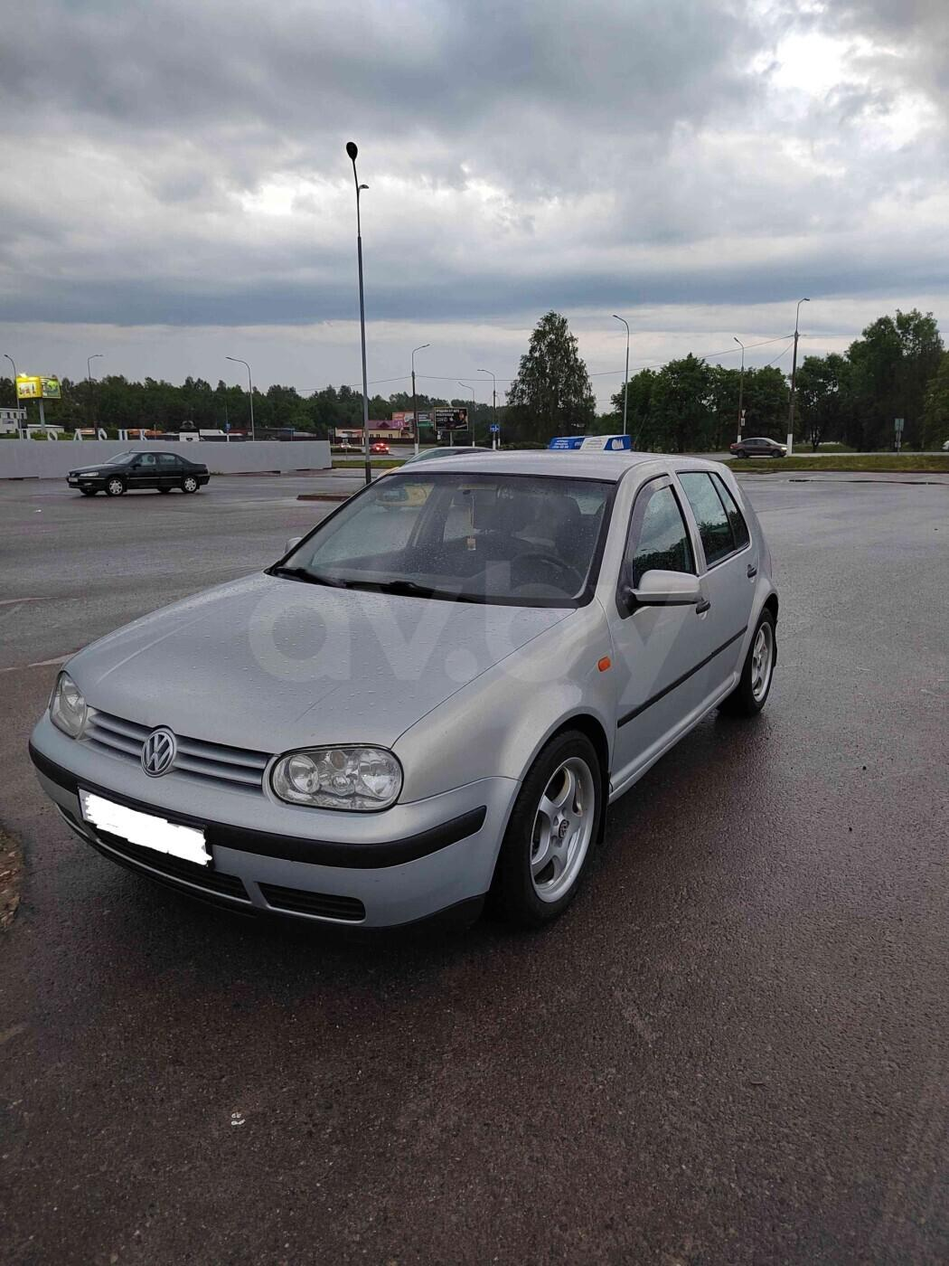Golf_1997-2006: (32, 444, 787, 929)
